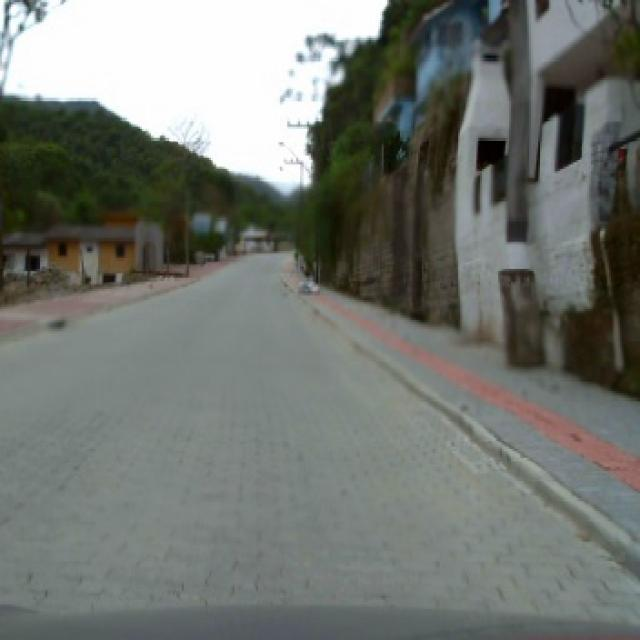Poth-hole: (46, 315, 66, 329)
